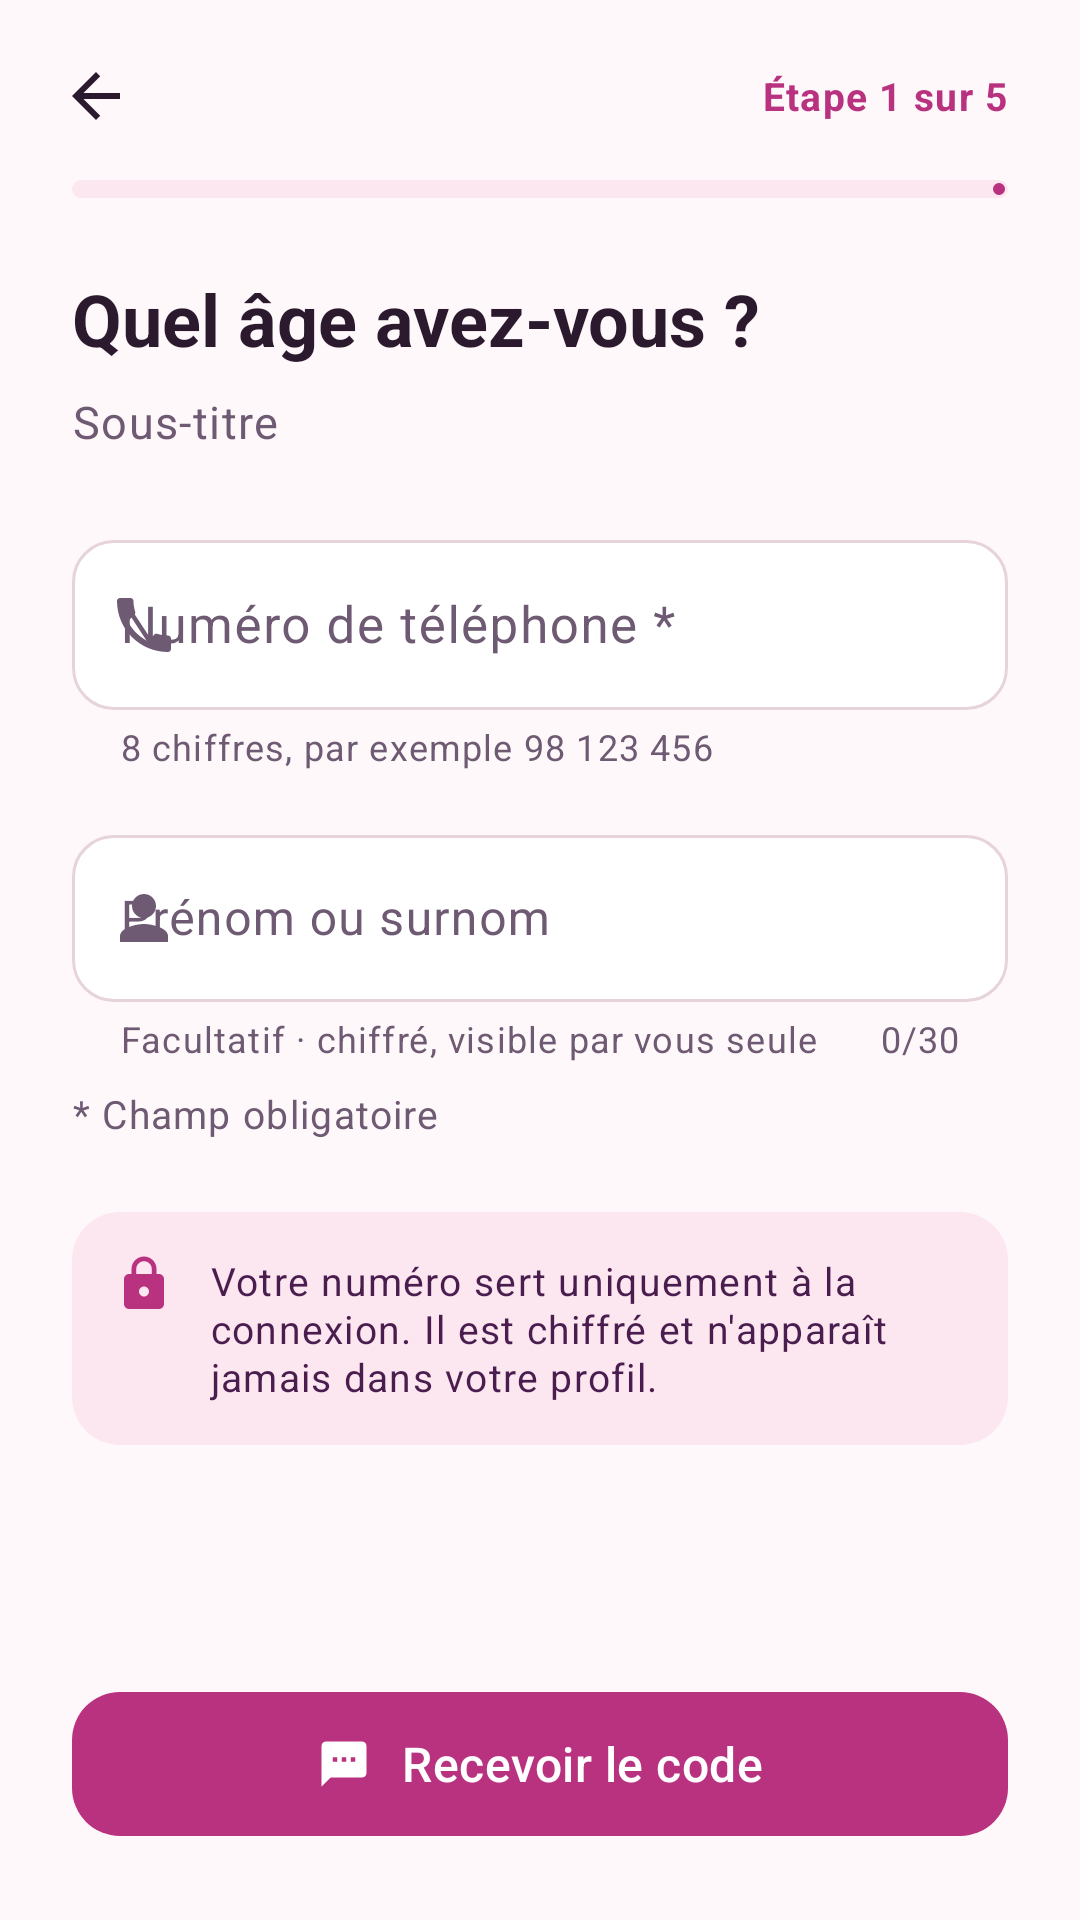

Where to tap for icons on this 1080w x 1920h app screen, as (x,y):
lock: (144,1282)
Retour: (96,96)
